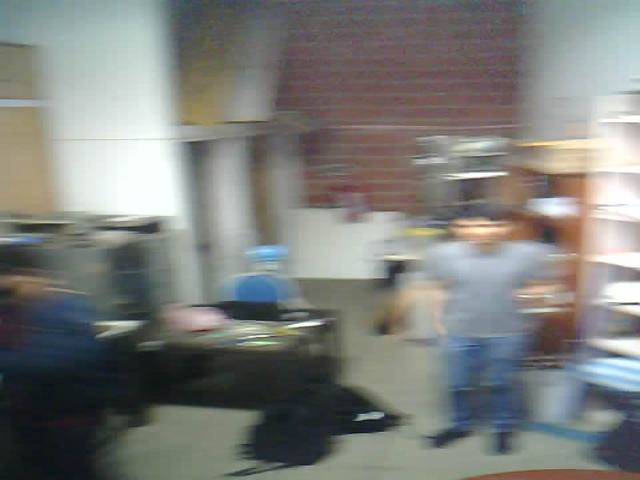person: (418, 202, 556, 477), (3, 230, 124, 480)
